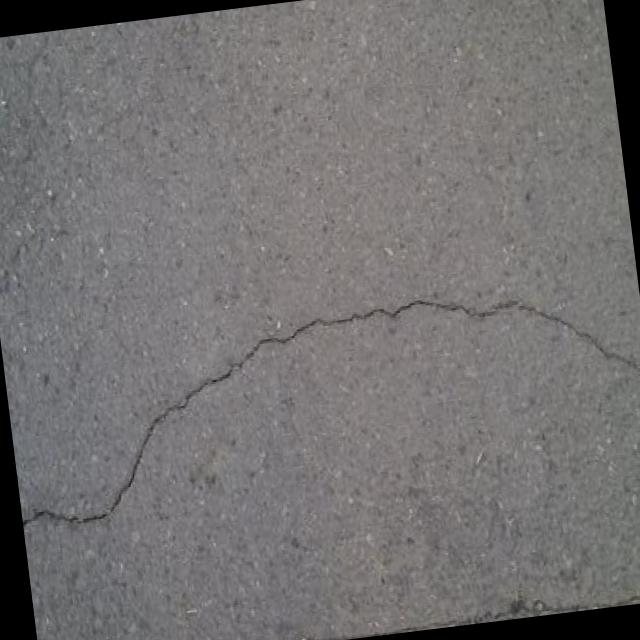Retak-Melintang: (22, 296, 640, 531)
